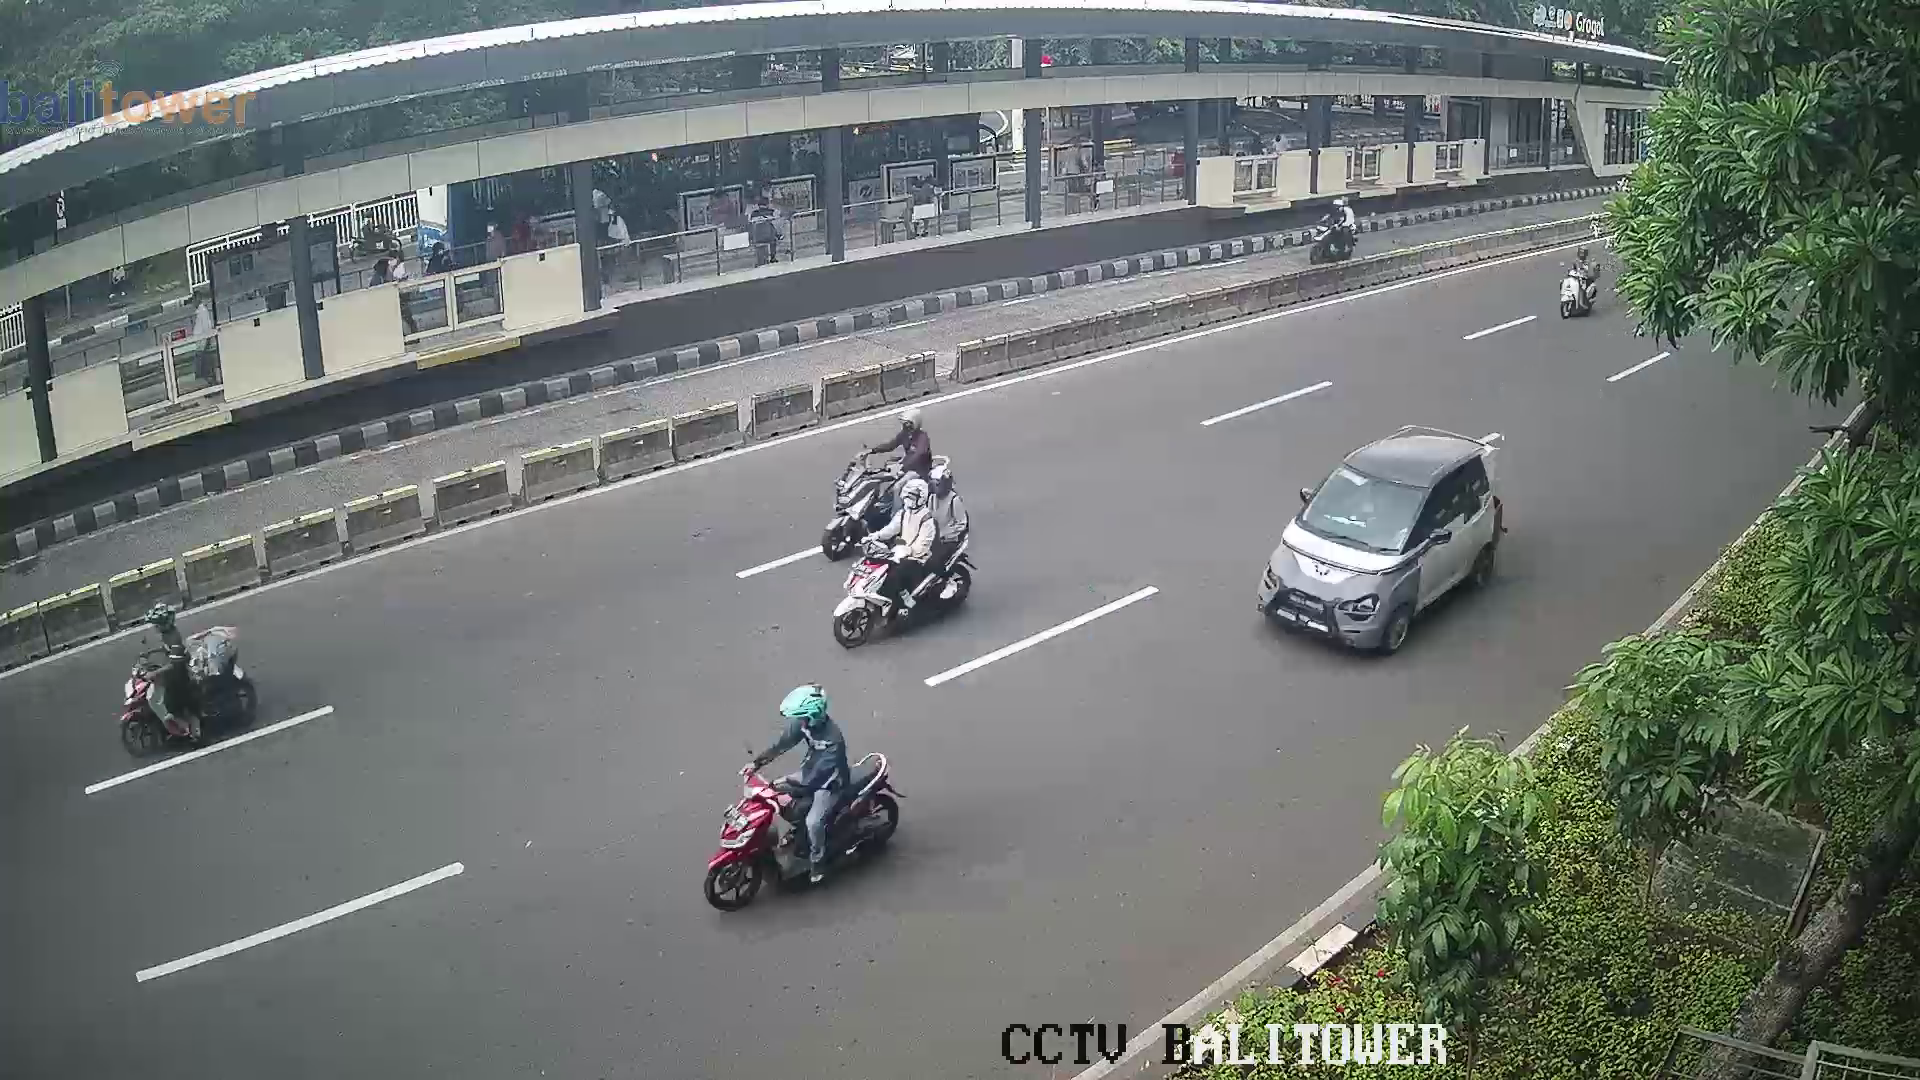half-face helmet: (772, 682, 827, 737), (892, 400, 929, 441), (898, 475, 929, 518), (145, 600, 176, 635), (931, 471, 963, 496)
